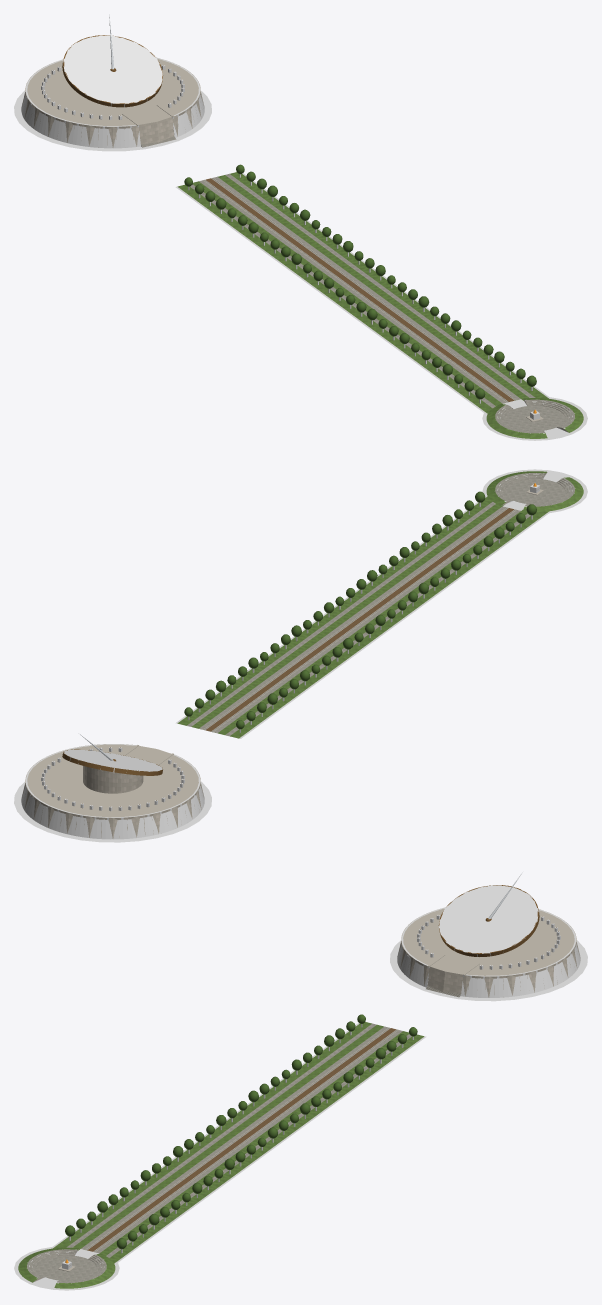
File: shijitan.glb
The picture shows the model from 3 angles, top to bottom: view 1: azimuth 30°, elevation 25°; view 2: azimuth 150°, elevation 25°; view 3: azimuth 330°, elevation 25°; orthographic projection.
Parts seen in each view (by area): view 1: Monument, Massing, COL_disc, COL_coneW, CLEAR_altar, CLEAR_strip, CLEAR_plaza, COL_coneE; view 2: Monument, Massing, COL_coneW, CLEAR_altar, COL_disc, CLEAR_strip, CLEAR_plaza, COL_coneN, COL_coneE; view 3: Massing, Monument, COL_disc, COL_coneE, CLEAR_altar, CLEAR_strip, CLEAR_plaza, COL_coneW.
Part boxes in pixels (x1,y1,x2,y2): Monument: (25,14,583,438); Massing: (21,59,572,430); COL_disc: (63,35,162,107); COL_coneW: (21,94,140,148); CLEAR_altar: (14,90,211,151); CLEAR_strip: (175,173,550,414); CLEAR_plaza: (482,397,587,440); COL_coneE: (173,94,204,137); Monument: (24,471,583,837); Massing: (21,474,572,838); COL_coneW: (85,786,204,839); CLEAR_altar: (14,781,211,842); COL_disc: (63,749,162,772); CLEAR_strip: (175,502,551,738); CLEAR_plaza: (482,469,587,513); COL_coneN: (51,810,86,837); COL_coneE: (21,786,52,828); Massing: (29,908,580,1280); Monument: (18,872,576,1288); COL_disc: (439,885,538,956); COL_coneE: (461,944,580,997); CLEAR_altar: (390,940,587,1001); CLEAR_strip: (52,1023,426,1264); CLEAR_plaza: (14,1246,119,1290); COL_coneW: (397,944,428,987).
Size of the model in its own units: 92 by 39.75 by 462.
Materials: 14 (6 with a texture image).
